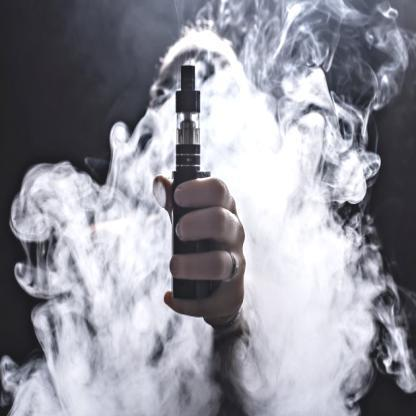smoke: (14, 122, 160, 415), (230, 216, 379, 415), (226, 0, 370, 203), (158, 315, 213, 415)
